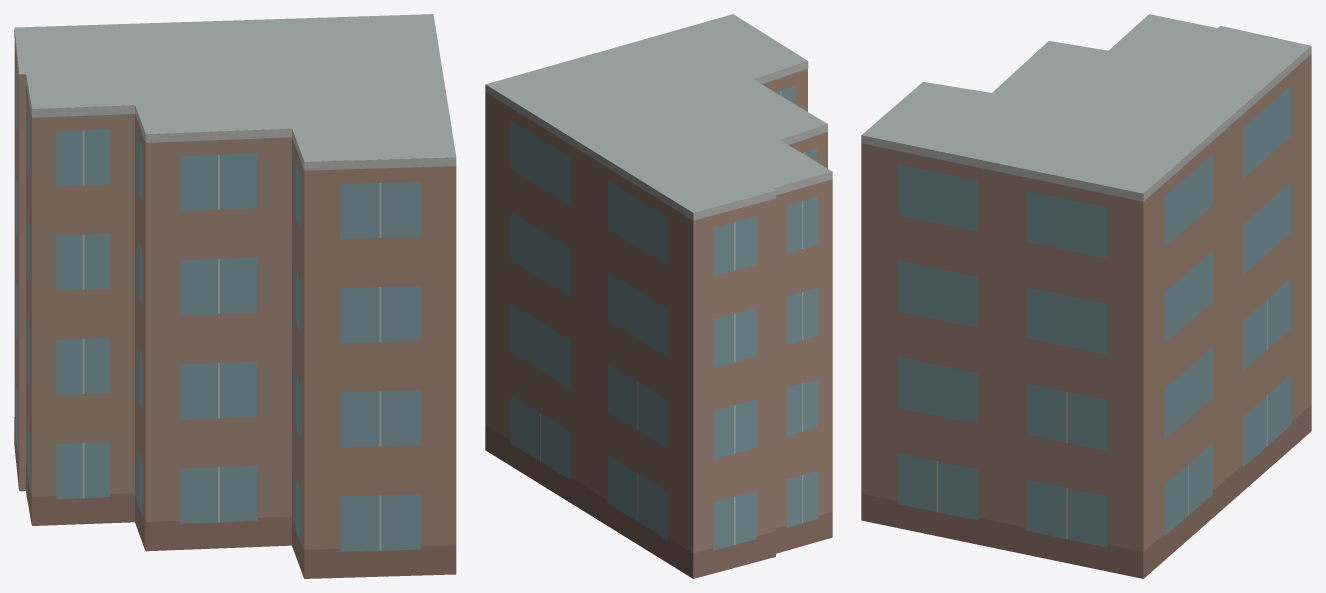
The model's file is survey-upis-32524626.glb.
3 views of the same model, side by side, from view 1: azimuth 30°, elevation 25°; view 2: azimuth 150°, elevation 25°; view 3: azimuth 270°, elevation 25° (orthographic). The views are drawn at different scales.
Visible parts, largest first — view 1: survey-upis-32524626.tmp; view 2: survey-upis-32524626.tmp; view 3: survey-upis-32524626.tmp.
Boxes of the visible parts, box(x1,y1,x2,y2) form: survey-upis-32524626.tmp: box(14, 14, 456, 578); survey-upis-32524626.tmp: box(485, 14, 832, 578); survey-upis-32524626.tmp: box(861, 14, 1311, 578).
Size of the model in its own units: 11.71 by 11.7 by 12.41.
